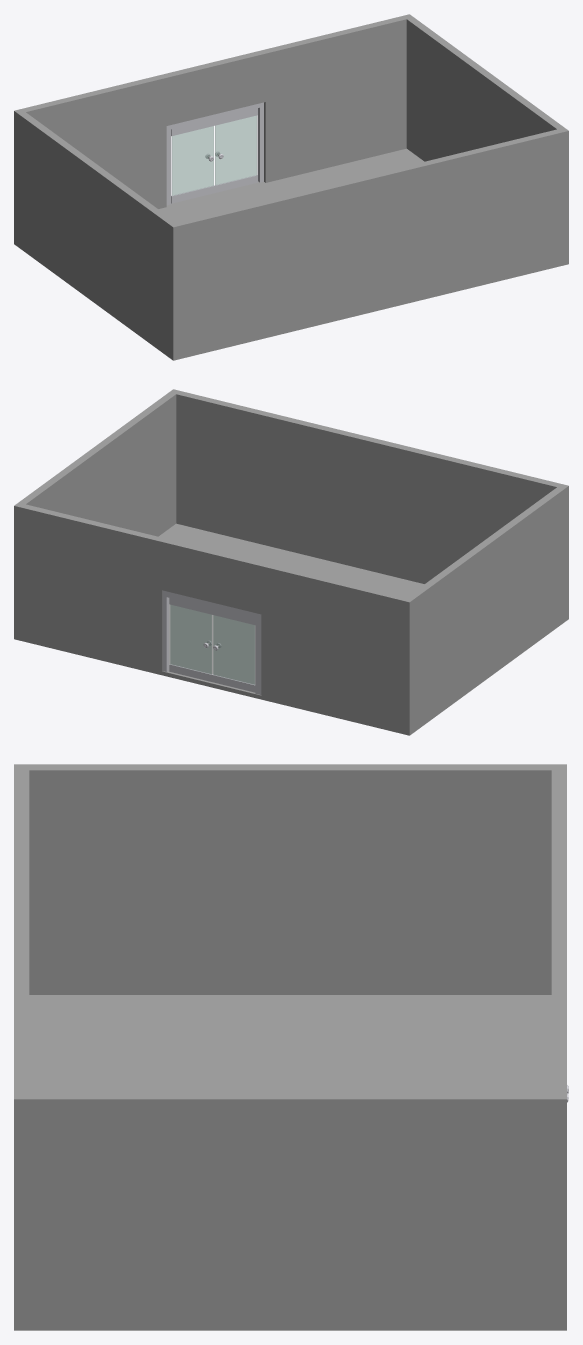
File: Background.fbx
3 renders of one model, top to bottom at view 1: azimuth 30°, elevation 25°; view 2: azimuth 150°, elevation 25°; view 3: azimuth 270°, elevation 25°, orthographic. The views are drawn at different scales.
Visible parts, largest first — view 1: FloorAndWall, polySurface13, polySurface12 (×2), polySurface14, polySurface11 (×2); view 2: FloorAndWall, polySurface13, polySurface12 (×2), polySurface14, polySurface11 (×2); view 3: FloorAndWall, polySurface13.
Boxes of the visible parts, box(x1,y1,x2,y2) form: FloorAndWall: box(14, 17, 568, 360); polySurface13: box(14, 14, 413, 242); polySurface12 (×2): box(172, 115, 256, 195); polySurface14: box(166, 102, 263, 205); polySurface11 (×2): box(171, 108, 257, 203); FloorAndWall: box(14, 389, 568, 735); polySurface13: box(14, 502, 413, 731); polySurface12 (×2): box(170, 605, 254, 684); polySurface14: box(162, 590, 261, 694); polySurface11 (×2): box(169, 598, 255, 692); FloorAndWall: box(14, 764, 566, 1330); polySurface13: box(551, 764, 566, 1323).
Size of the model in its own units: 160 by 51.55 by 112.
